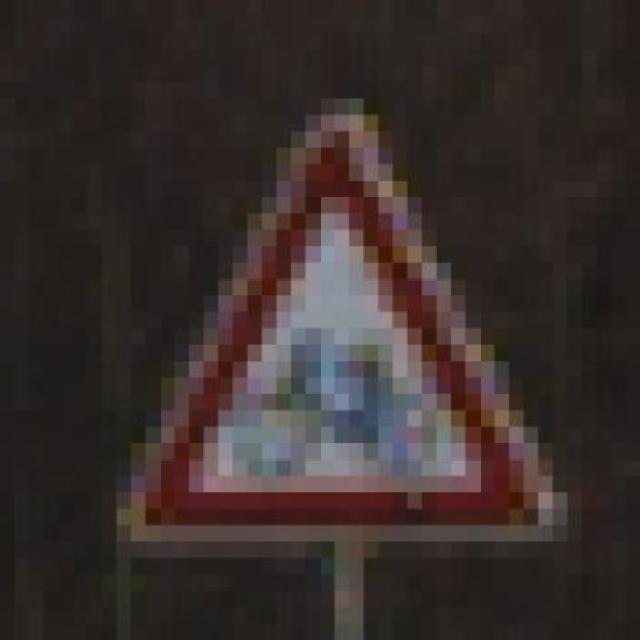CYCLE ROUTE AHEAD WARNING: (87, 81, 582, 558)
